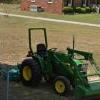Tractor: (11, 24, 100, 83)
